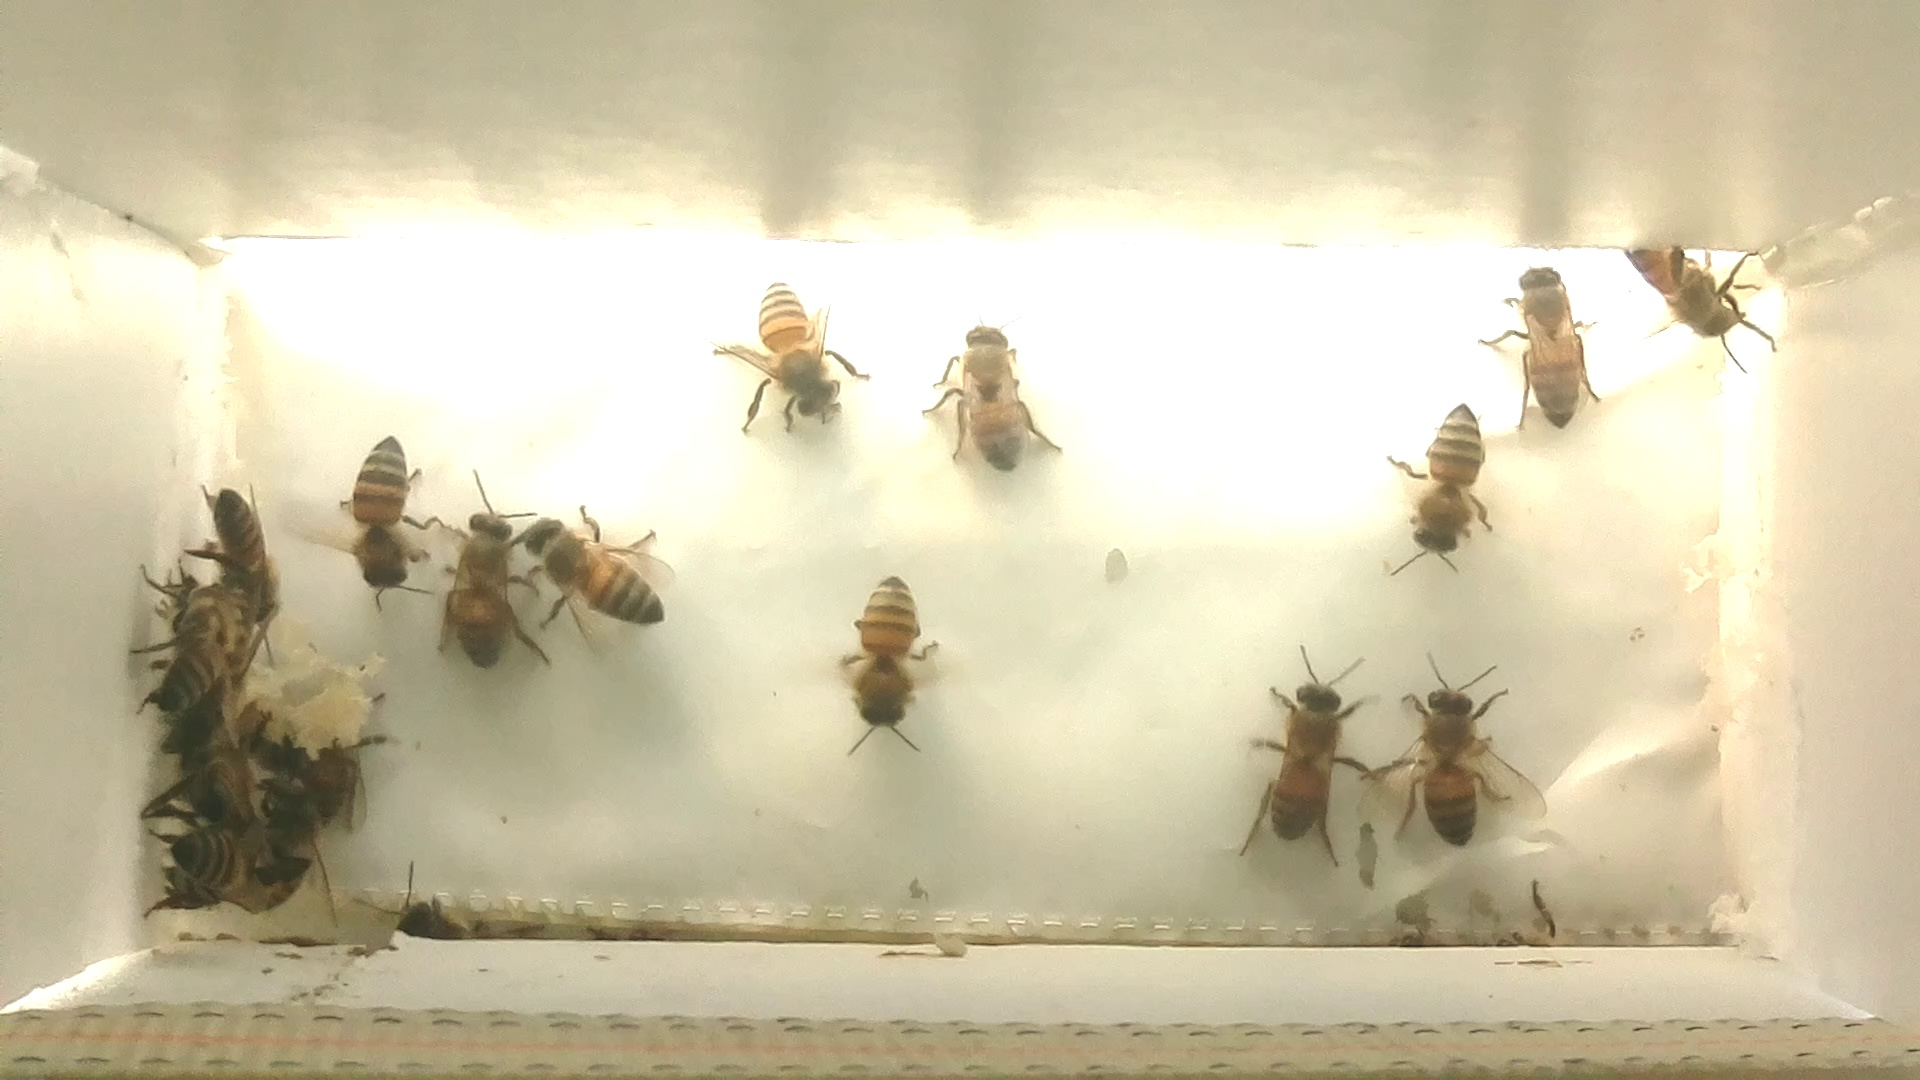bee: (1362, 647, 1534, 868), (807, 549, 959, 762), (1234, 638, 1362, 876), (709, 269, 877, 440), (919, 307, 1077, 487), (297, 419, 439, 617), (426, 469, 550, 690), (1367, 393, 1501, 597), (1618, 233, 1789, 378), (526, 502, 687, 655), (1481, 252, 1609, 436), (113, 580, 239, 717), (187, 469, 294, 629), (149, 796, 272, 920), (131, 711, 258, 815), (364, 856, 477, 959)
